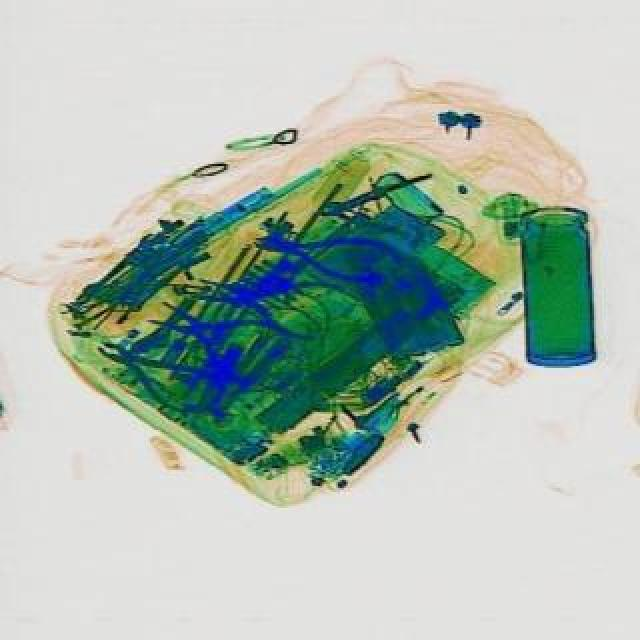wrench: (134, 280, 302, 392), (82, 320, 224, 426), (186, 254, 342, 346), (248, 216, 402, 290)
